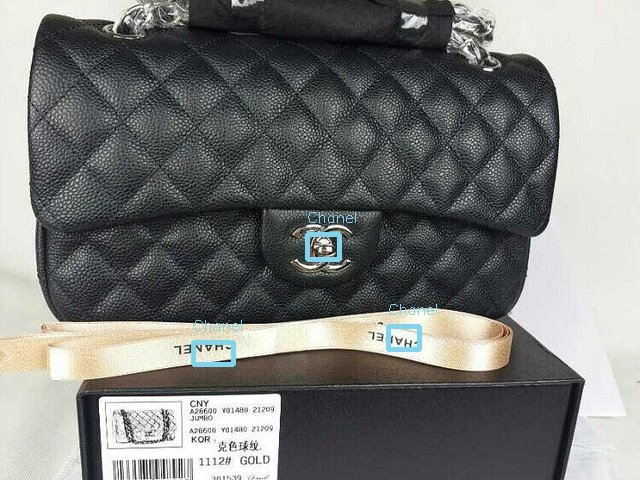Chanel: (288, 216, 355, 276), (365, 326, 430, 355), (172, 337, 240, 358)
